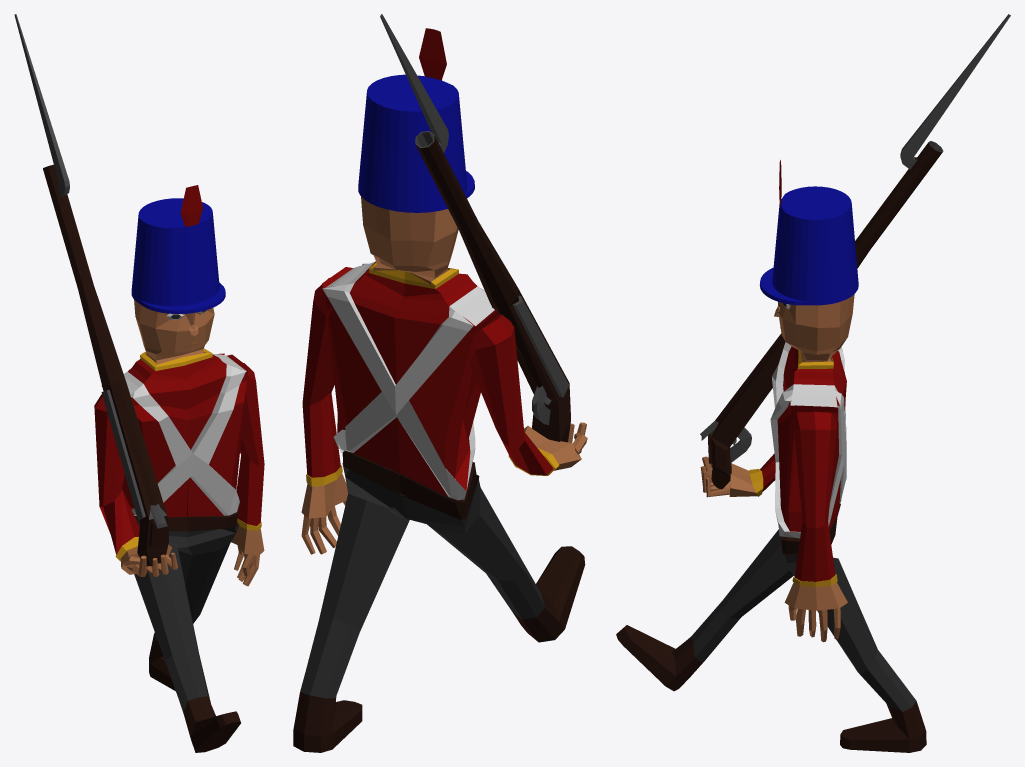
File: frame1.obj
3 renders of one model, left to right at view 1: azimuth 30°, elevation 25°; view 2: azimuth 150°, elevation 25°; view 3: azimuth 270°, elevation 25°, orthographic. The views are drawn at different scales.
Visible parts, largest first — view 1: {Man}_Circle, {Mesket}_Cube.001; view 2: {Man}_Circle, {Mesket}_Cube.001; view 3: {Man}_Circle, {Mesket}_Cube.001.
Boxes of the visible parts, box(x1,y1,x2,y2) form: {Man}_Circle: box(94, 185, 264, 752); {Mesket}_Cube.001: box(14, 14, 168, 566); {Man}_Circle: box(293, 28, 587, 752); {Mesket}_Cube.001: box(380, 14, 570, 442); {Man}_Circle: box(616, 160, 926, 752); {Mesket}_Cube.001: box(700, 14, 1010, 489).
Size of the model in its own units: 5.63 by 19.1 by 10.06.
